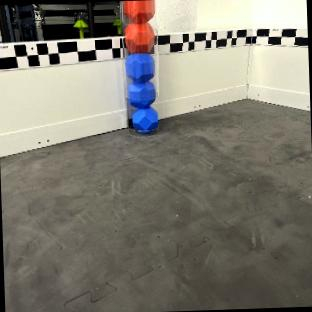V5_BLUE: (126, 53, 155, 80), (128, 80, 156, 107), (131, 107, 158, 133)
V5_RED: (124, 21, 154, 53), (123, 0, 154, 24)
